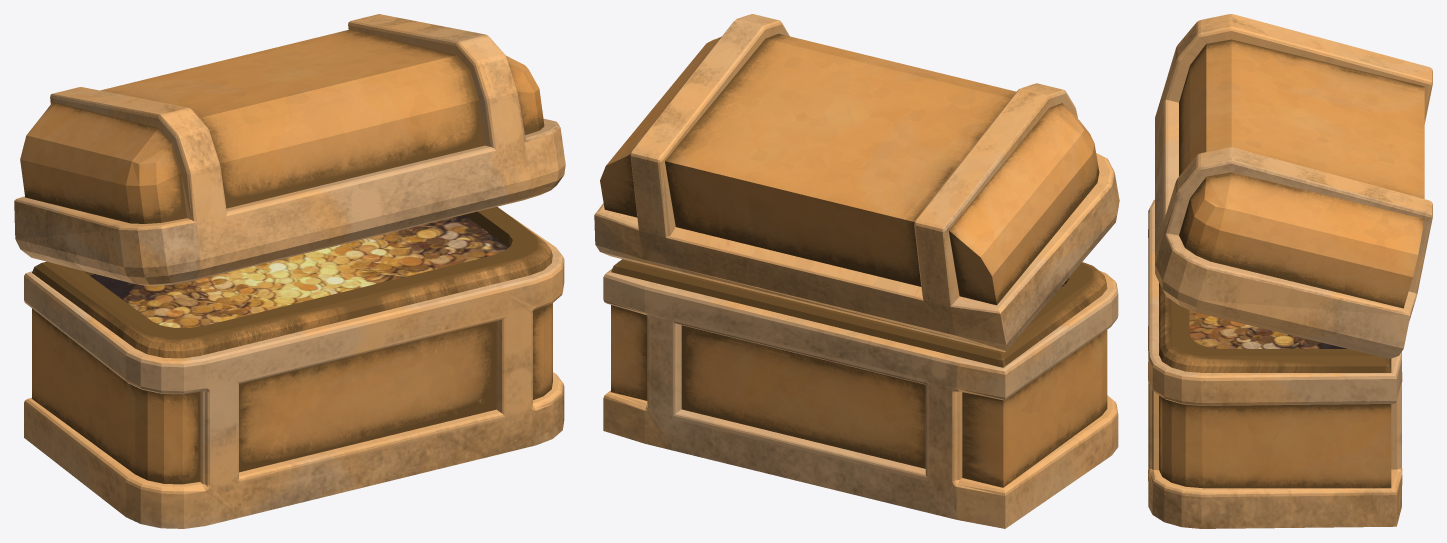
Rendered from Chest.fbx.
3 renders of one model, left to right at view 1: azimuth 30°, elevation 25°; view 2: azimuth 150°, elevation 25°; view 3: azimuth 270°, elevation 25°, orthographic. The views are drawn at different scales.
Parts seen in each view (by area): view 1: Base; view 2: Base; view 3: Base.
Boxes of the visible parts, <box> form: Base: <box>14,14,565,528</box>; Base: <box>594,14,1119,528</box>; Base: <box>1148,14,1432,528</box>.
Size of the model in its own units: 59.79 by 49.13 by 36.73.
